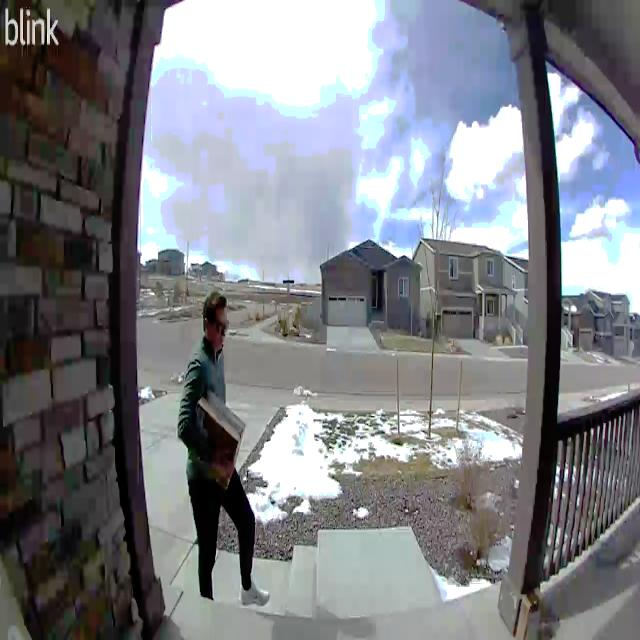Box: (194, 387, 246, 490), (515, 586, 546, 640)
